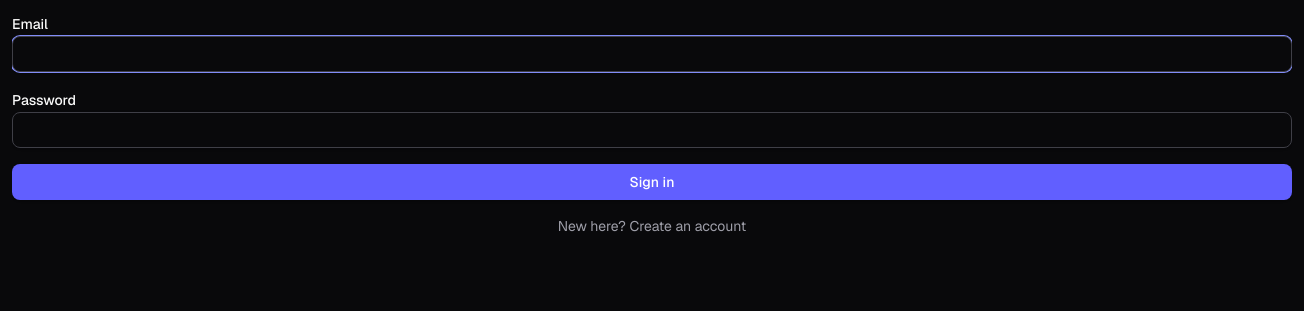
it: INVALID_EMAIL_OR_PASSWORD shows the generic credentials alert
Step 1. Type "ada@example.com" into the field labelled "Email" → (652, 54), box [12,36,1292,72]
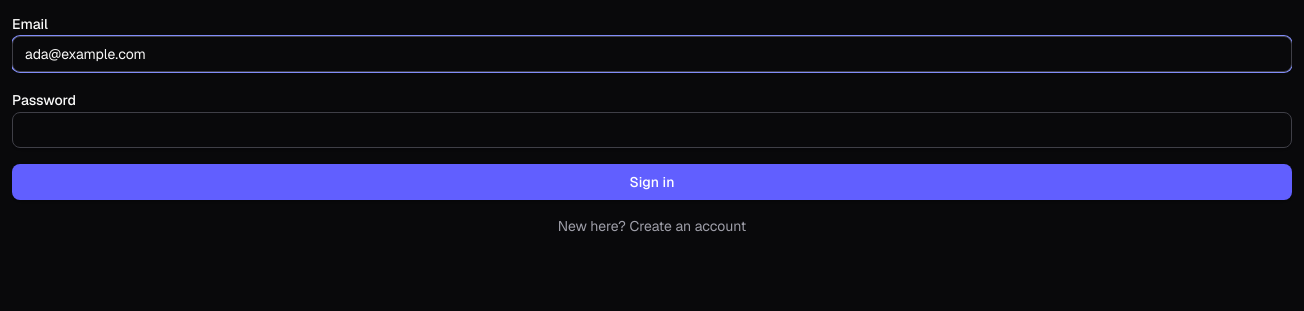
Step 2. Type "password1" into the password field labelled "Password" → (652, 130), box [12,112,1292,148]
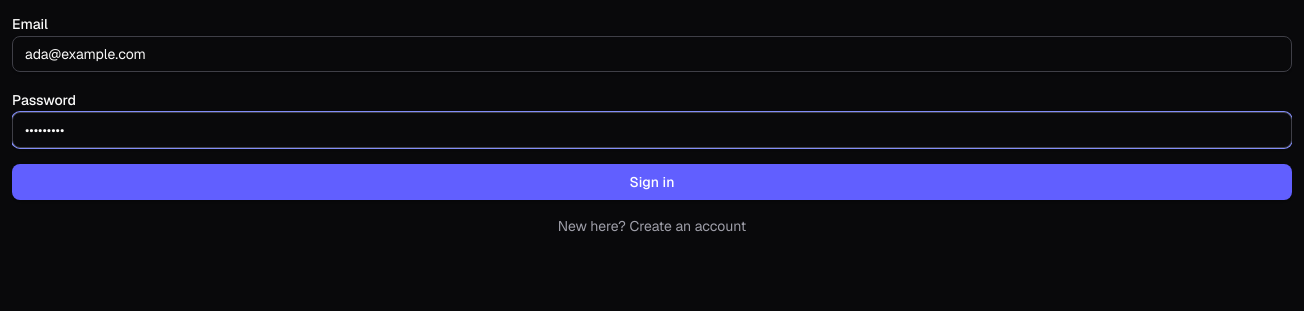
Step 3. Click the button "Sign in" → (652, 182), box [12,164,1292,200]
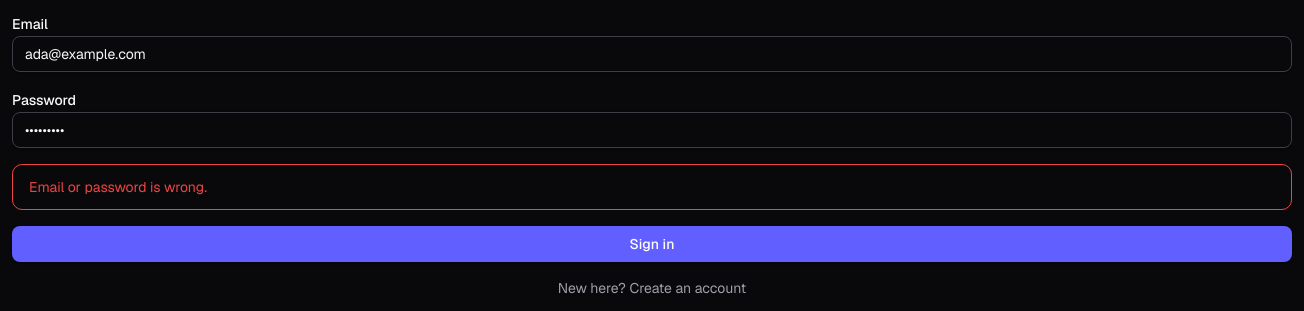
Now the message reads "Email or password is wrong.", box [29,178,207,196]
